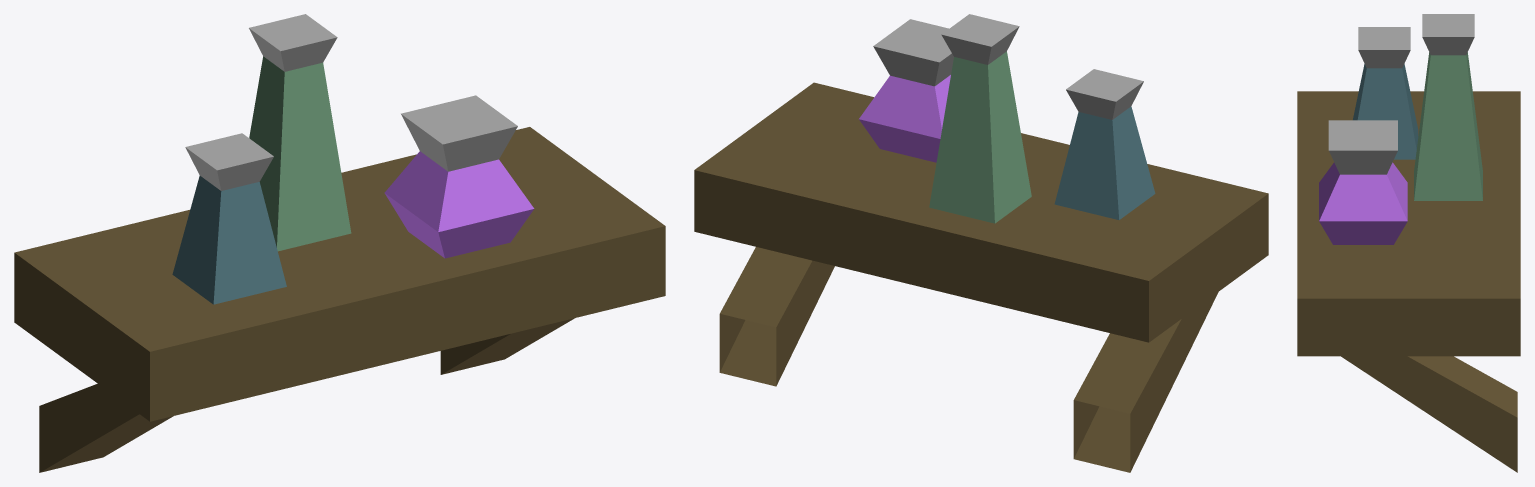
Rendered from Wall Shelf 02.FBX.
3 renders of one model, left to right at view 1: azimuth 30°, elevation 25°; view 2: azimuth 150°, elevation 25°; view 3: azimuth 270°, elevation 25°, orthographic. The views are drawn at different scales.
Visible parts, largest first — view 1: Wall Shelf 02; view 2: Wall Shelf 02; view 3: Wall Shelf 02.
Part boxes in pixels (box(x1,y1,x2,y2)): Wall Shelf 02: box(14, 14, 665, 472); Wall Shelf 02: box(694, 14, 1268, 472); Wall Shelf 02: box(1297, 14, 1520, 472).
Bounding box in the file's own units: 128 × 99.48 × 58.33.
